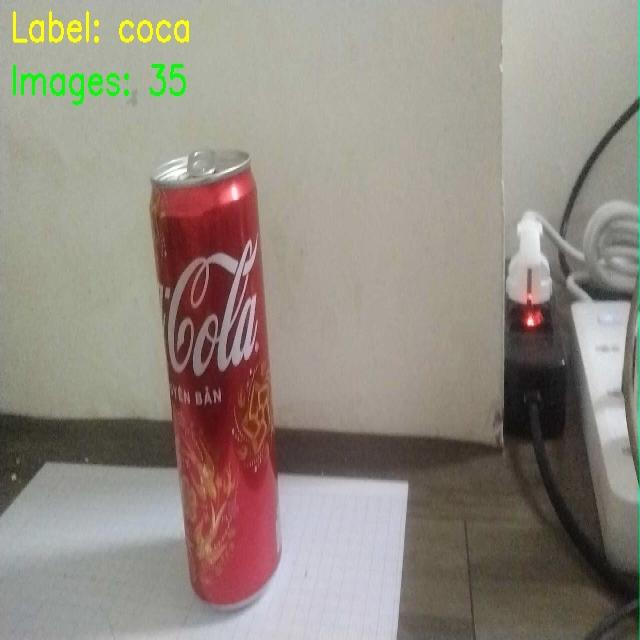Coca: (149, 154, 341, 618)
